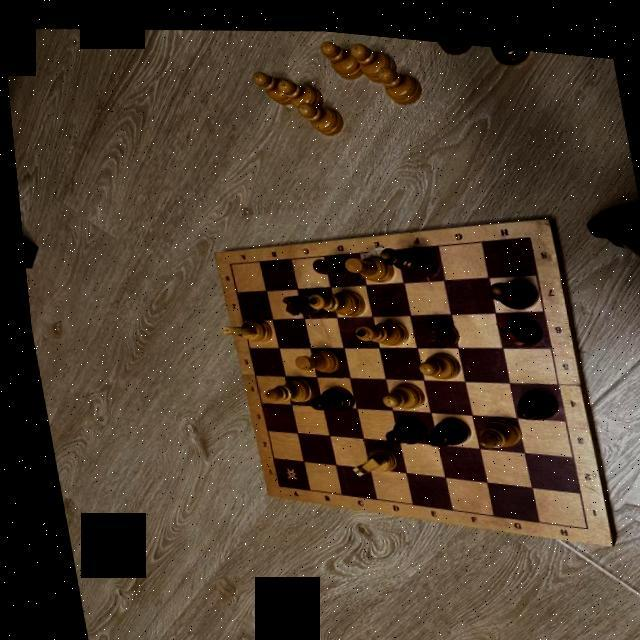chess-table-corners: (570, 512, 582, 520), (220, 254, 230, 263), (520, 222, 531, 230), (264, 475, 274, 483)
